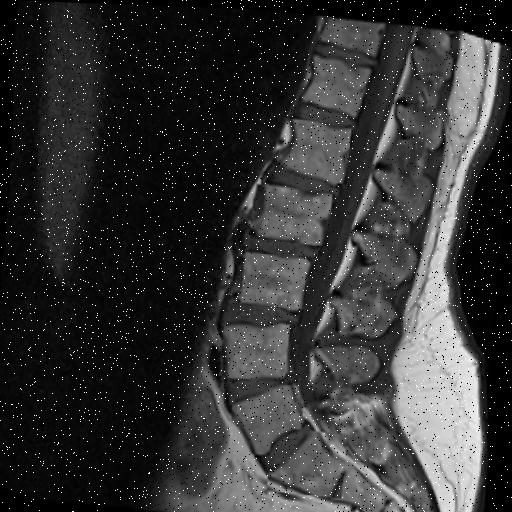L1: (279, 117, 352, 181)
L2: (251, 183, 333, 243)
L3: (242, 250, 308, 307)
L4: (225, 321, 291, 378)
L5: (235, 383, 305, 453)
S1: (270, 429, 347, 495)
